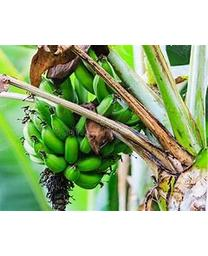banana: (28, 54, 139, 184)
